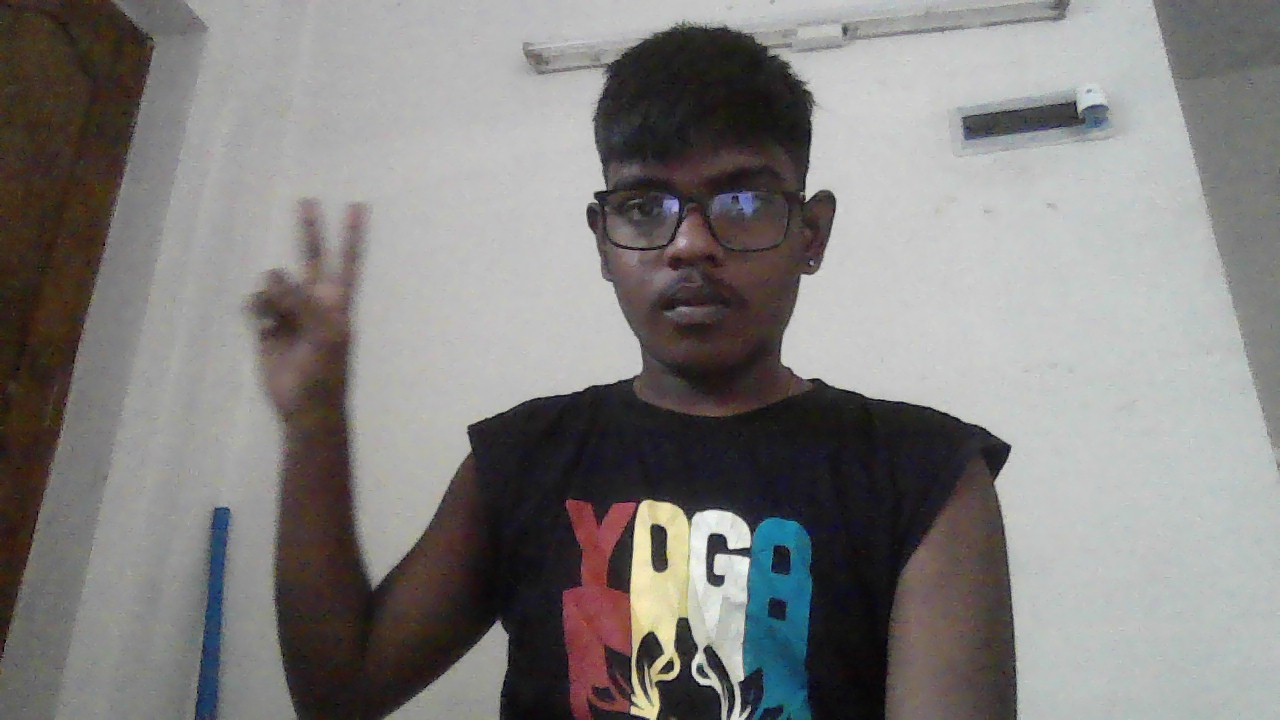V: (244, 195, 370, 423)
